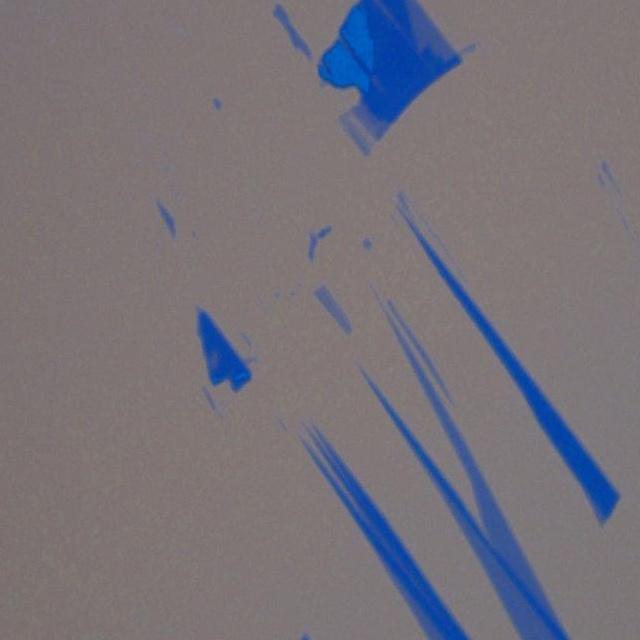monolayer-eWW4: (385, 300, 553, 617), (428, 472, 640, 640), (400, 0, 452, 60), (338, 105, 388, 156), (314, 284, 352, 336)
